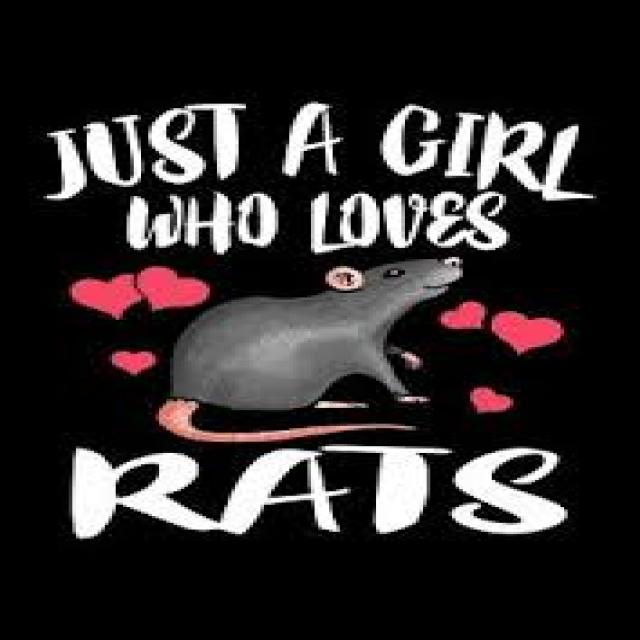rat: (163, 252, 463, 412)
